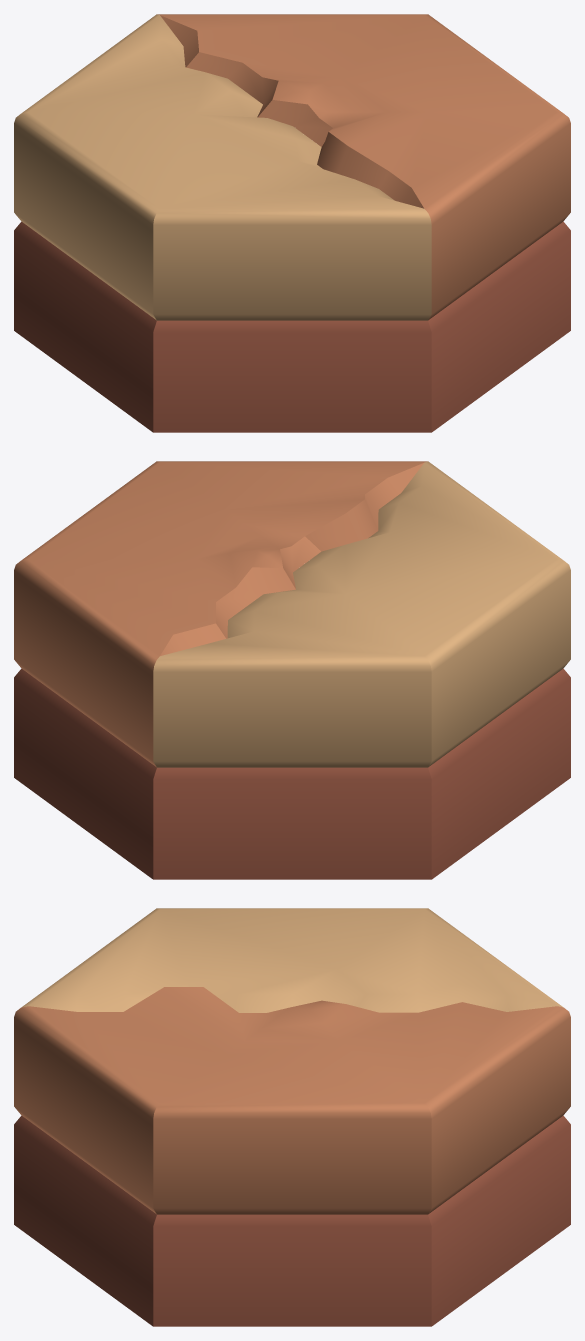
File: kaykit-hex-sand-transitionb.glb
3 renders of one model, top to bottom at view 1: azimuth 30°, elevation 25°; view 2: azimuth 150°, elevation 25°; view 3: azimuth 270°, elevation 25°, orthographic.
Parts seen in each view (by area): view 1: hex_sand_transitionB; view 2: hex_sand_transitionB; view 3: hex_sand_transitionB.
Part boxes in pixels (left/top/right/bottom): hex_sand_transitionB: left=14, top=14, right=570, bottom=432; hex_sand_transitionB: left=14, top=461, right=570, bottom=879; hex_sand_transitionB: left=14, top=908, right=570, bottom=1326.
Bounding box in the file's own units: 2 × 1.07 × 2.31.
